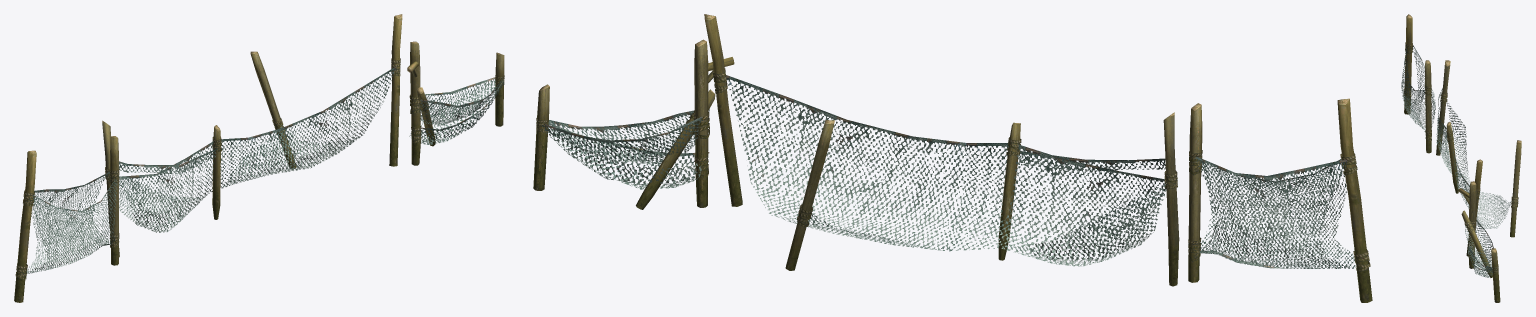
The model's file is 5010_Item_yuwang_01.FBX.
The picture shows the model from 3 angles, left to right: view 1: azimuth 30°, elevation 25°; view 2: azimuth 150°, elevation 25°; view 3: azimuth 270°, elevation 25°; orthographic projection. The views are drawn at different scales.
Visible parts, largest first — view 1: 5010_Item_yuwang_01; view 2: 5010_Item_yuwang_01; view 3: 5010_Item_yuwang_01.
Boxes of the visible parts, box(x1,y1,x2,y2) form: 5010_Item_yuwang_01: box(14, 14, 504, 302); 5010_Item_yuwang_01: box(533, 14, 1372, 302); 5010_Item_yuwang_01: box(1401, 14, 1521, 302).
Bounding box in the file's own units: 846 × 226 × 228.
